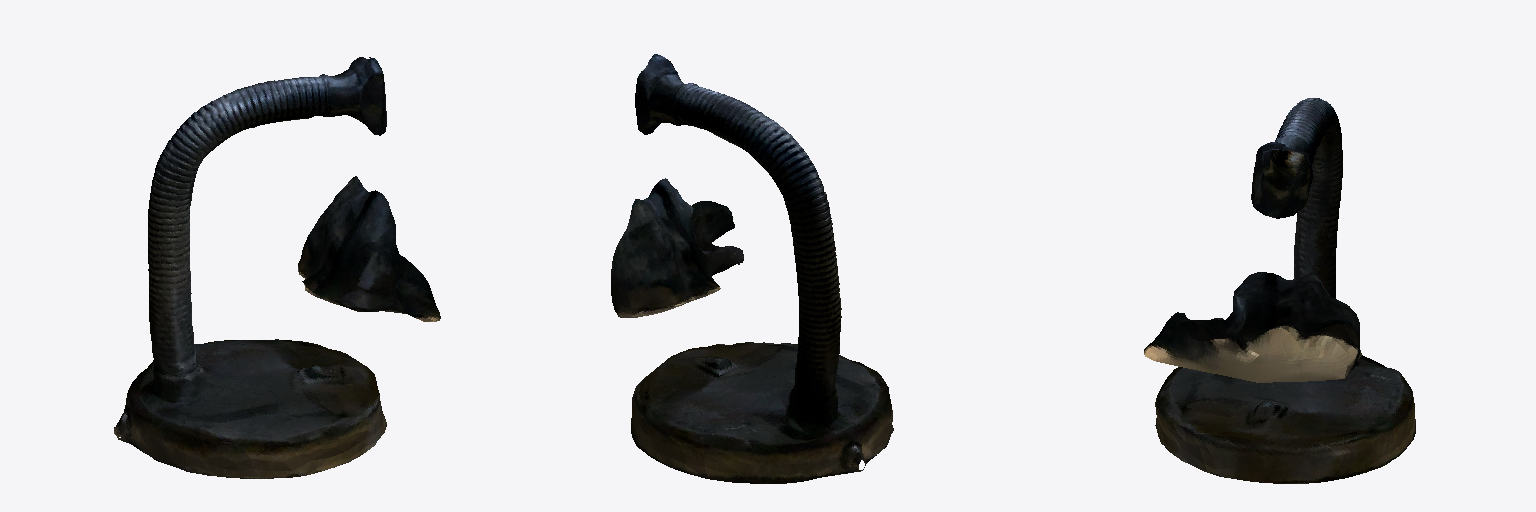
3 views of the same model, side by side, from view 1: azimuth 30°, elevation 25°; view 2: azimuth 150°, elevation 25°; view 3: azimuth 270°, elevation 25° (orthographic).
Size of the model in its own units: 0.4364 by 0.6128 by 0.4427.
1 materials, 1 textured.